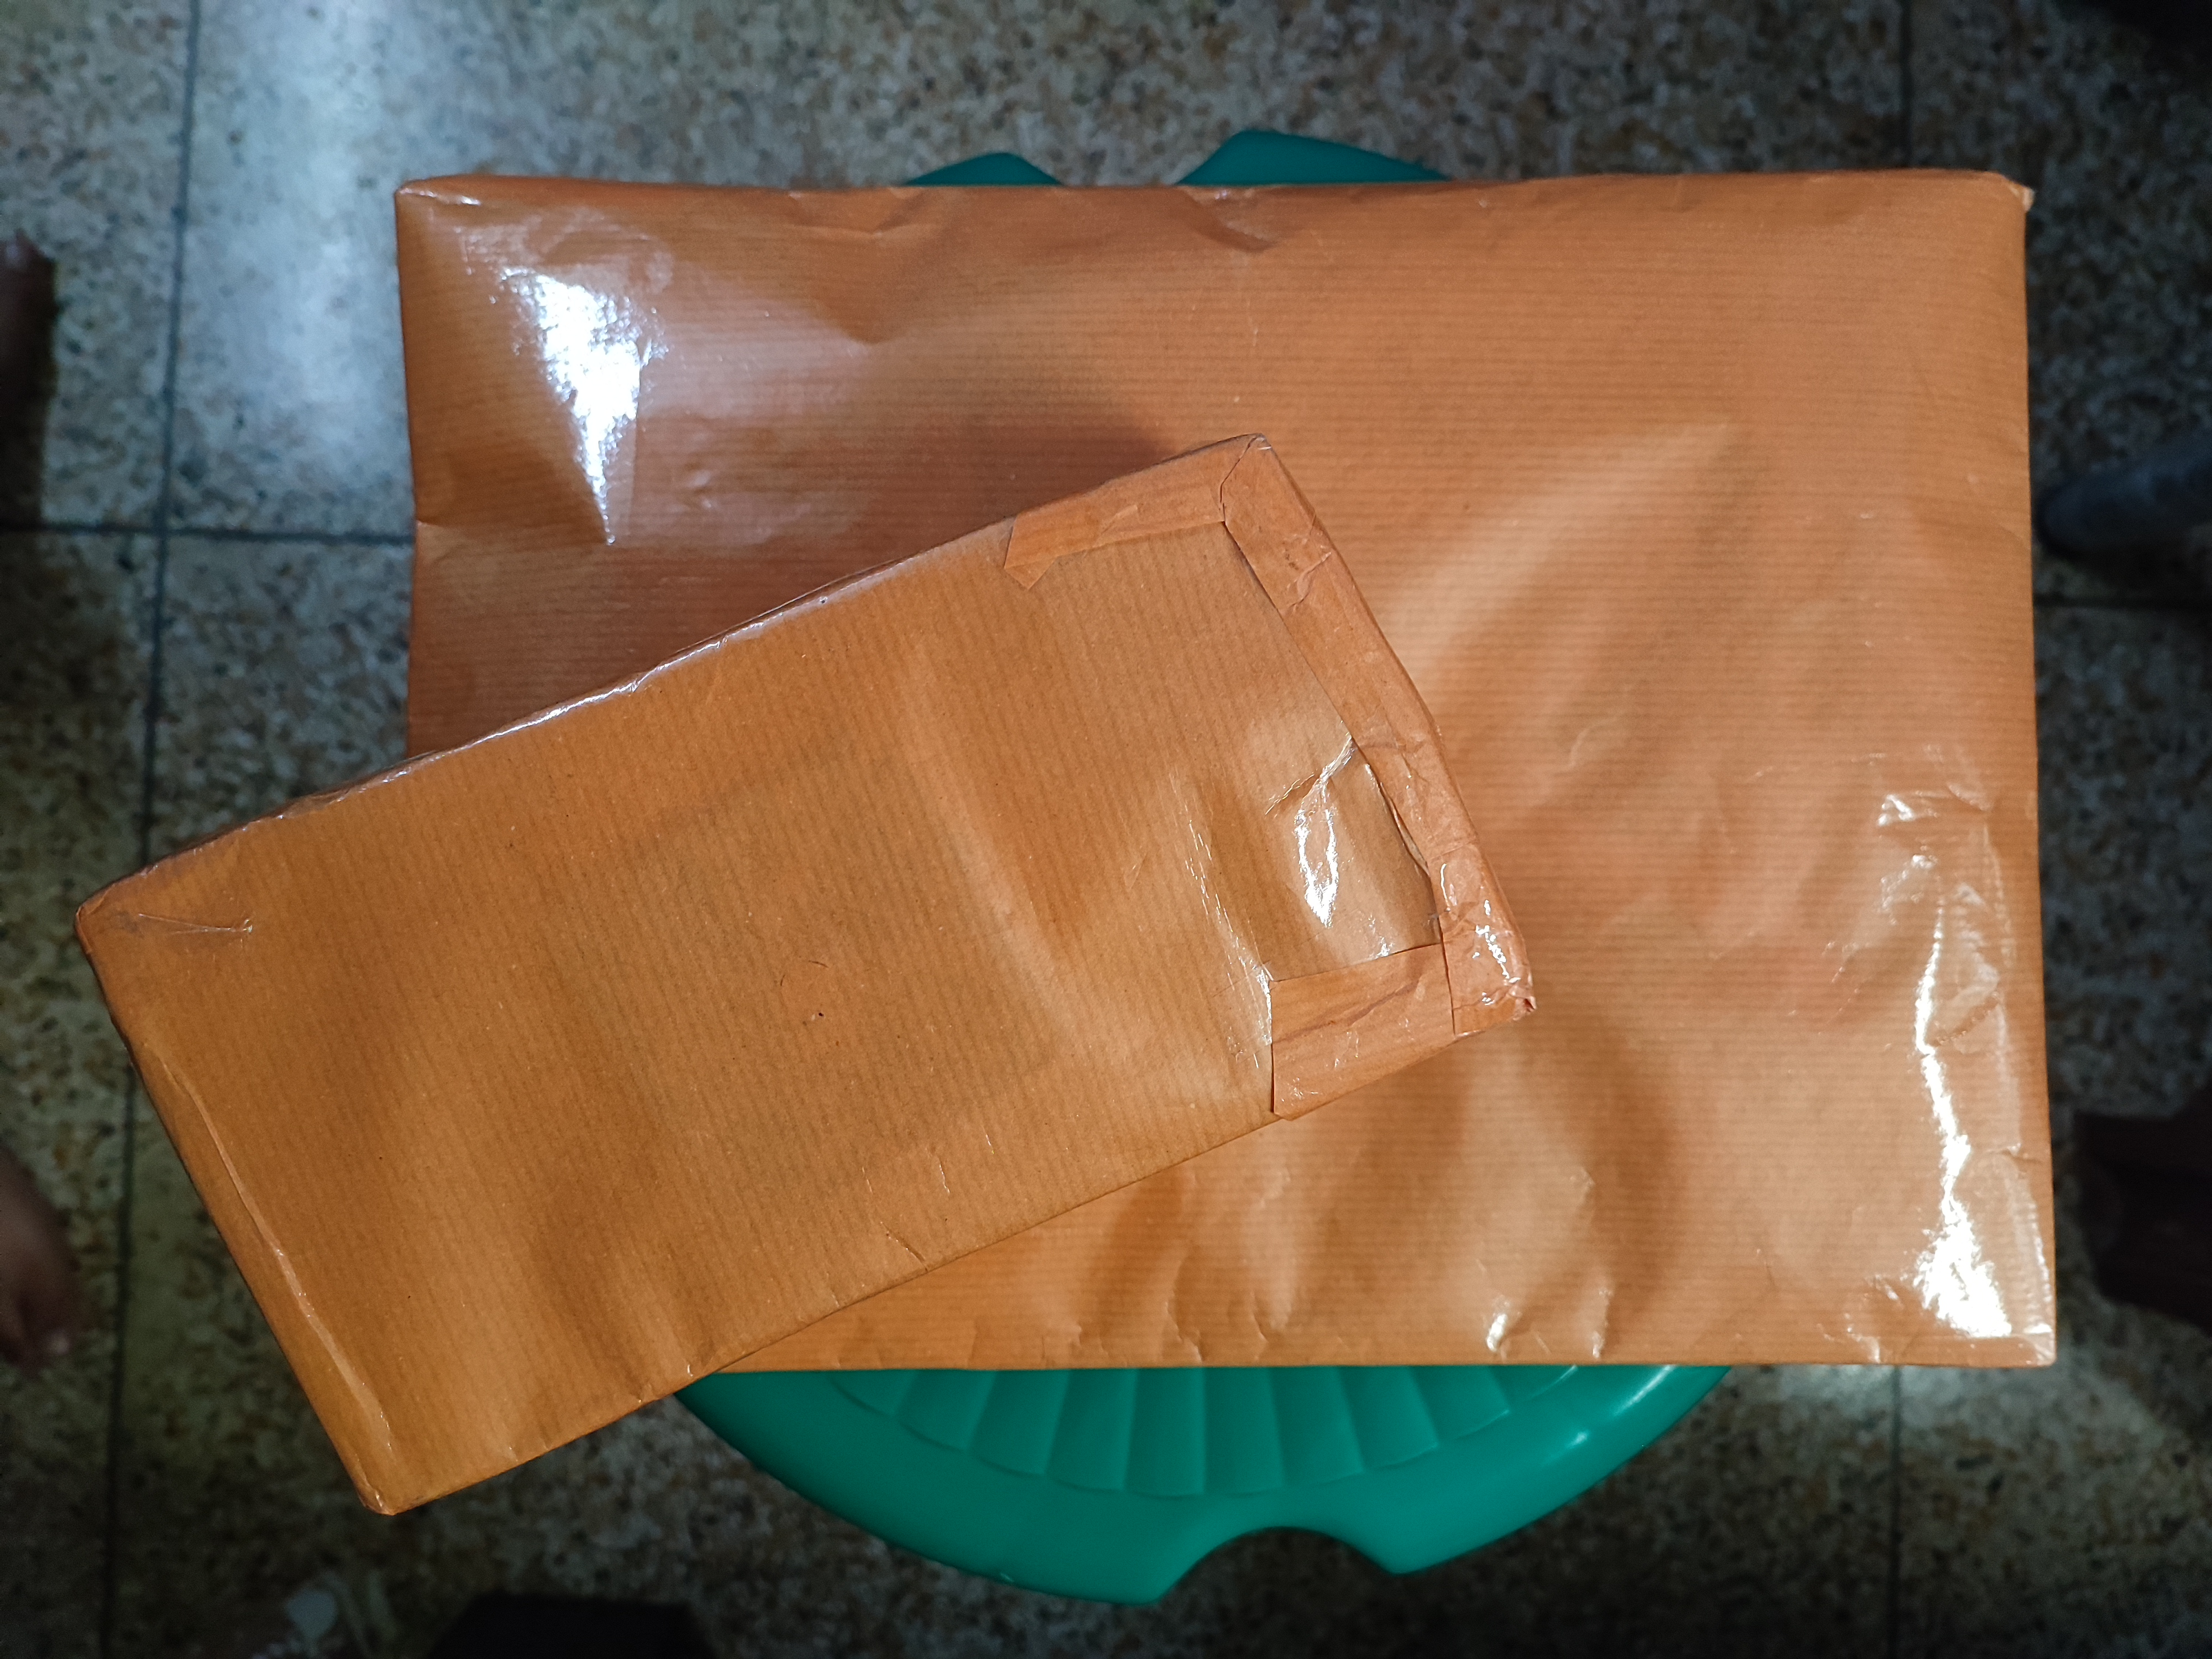Box: (371, 99, 2043, 1410), (66, 605, 1426, 1490)
